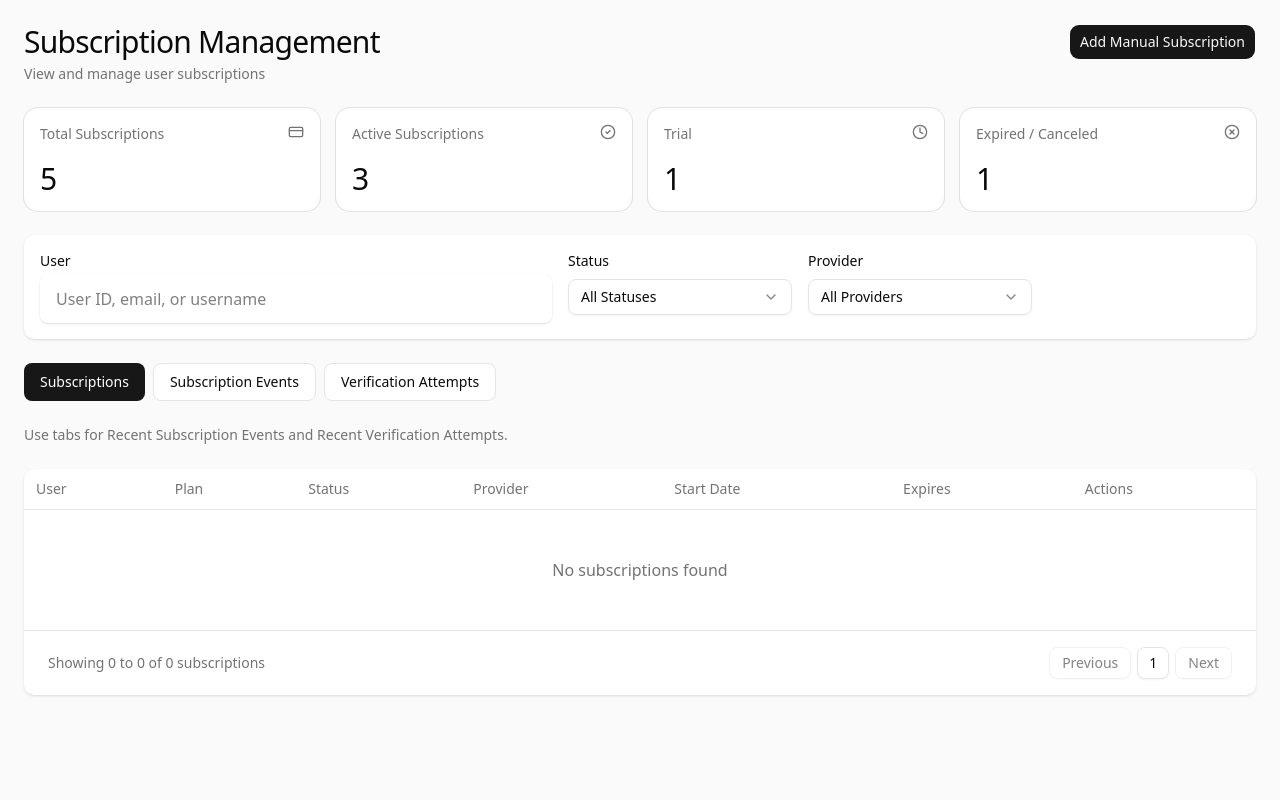
Test: SubscriptionsPage › renders tabbed subscription views with event and attempt filters
Expected: the heading "Subscription Management" is shown, [24, 24, 380, 60]
Expected: the button "Subscriptions" is shown, [24, 363, 145, 401]
Step 1. Click the button "Subscription Events" → (234, 382), box [153, 363, 316, 401]
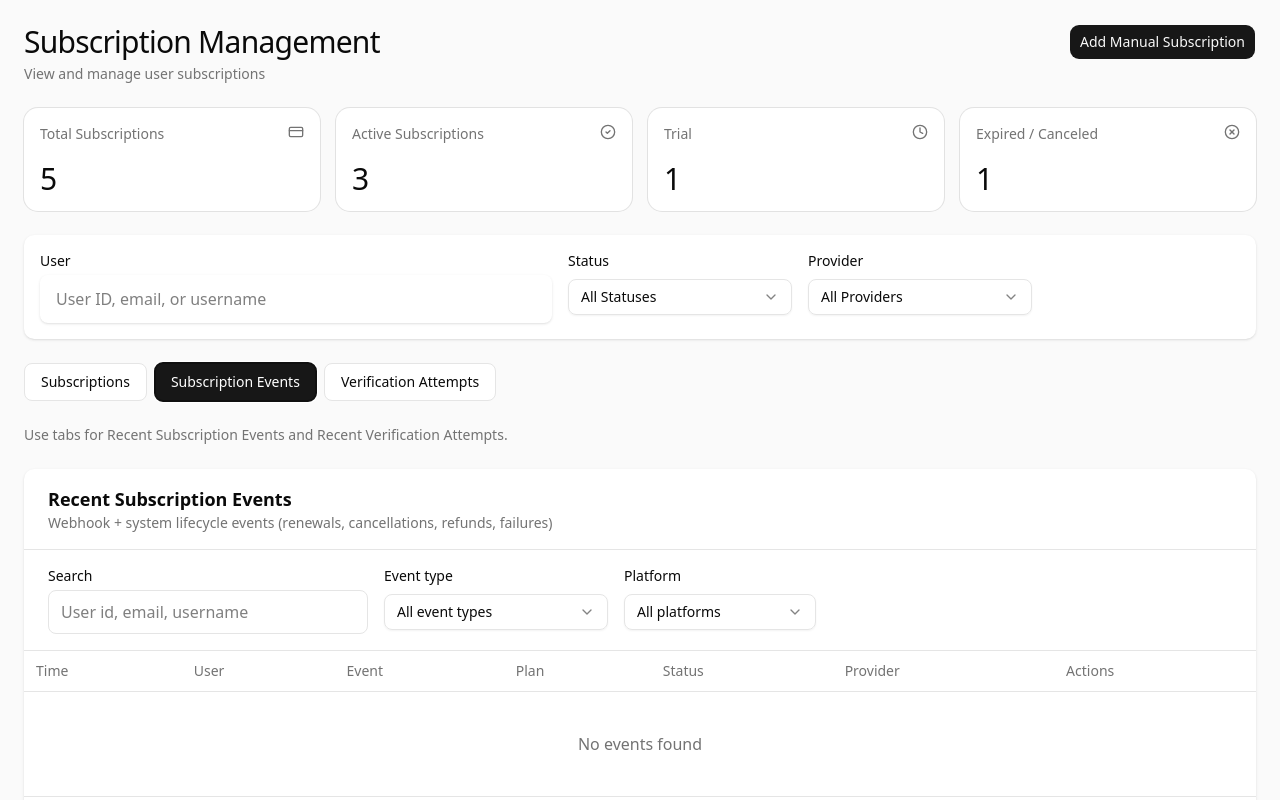
Result: the heading "Recent Subscription Events" is shown at [48, 487, 292, 511]
Result: the field with placeholder "User id, email, username" is shown at [48, 590, 368, 634]
Result: the text "All event types" is shown at [397, 602, 492, 622]
Step 2. Click the button "Verification Attempts" → (410, 382), box [324, 363, 496, 401]
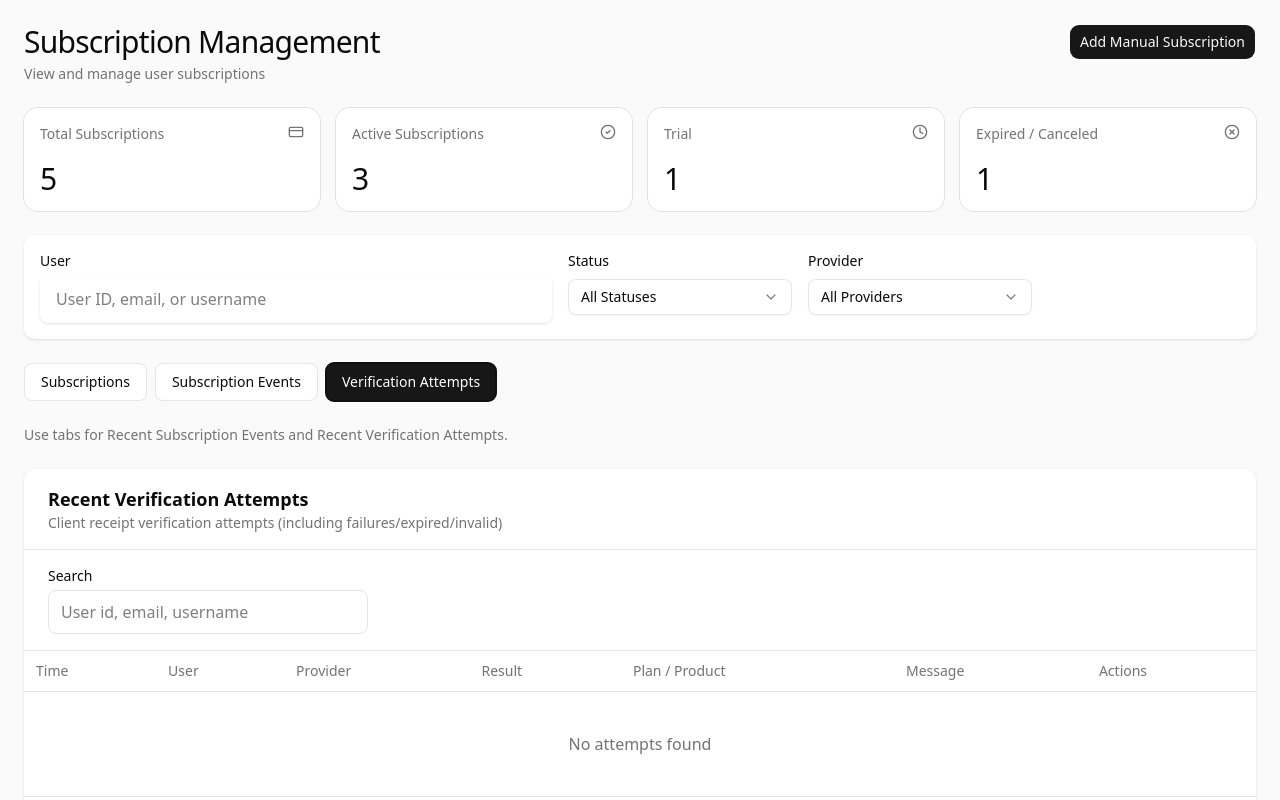
Result: the heading "Recent Verification Attempts" is shown at [48, 487, 308, 511]
Result: the text "No attempts found" is shown at [24, 692, 1256, 796]
